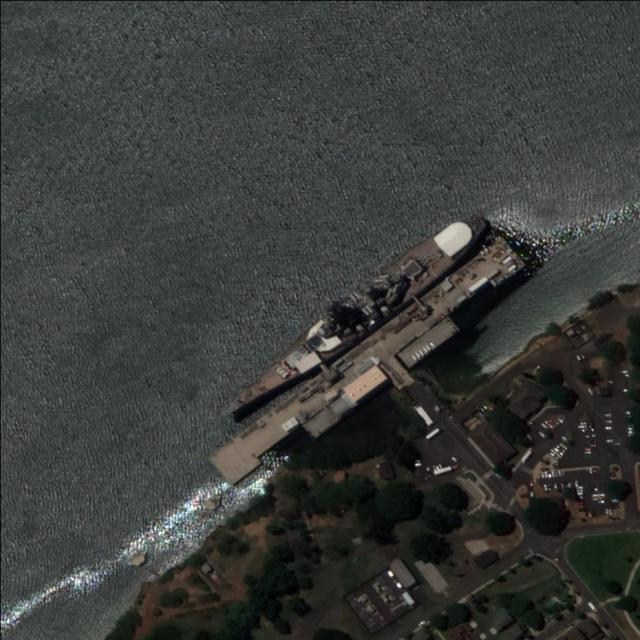Dock: (206, 230, 521, 482)
Other Warship: (209, 204, 491, 431)
